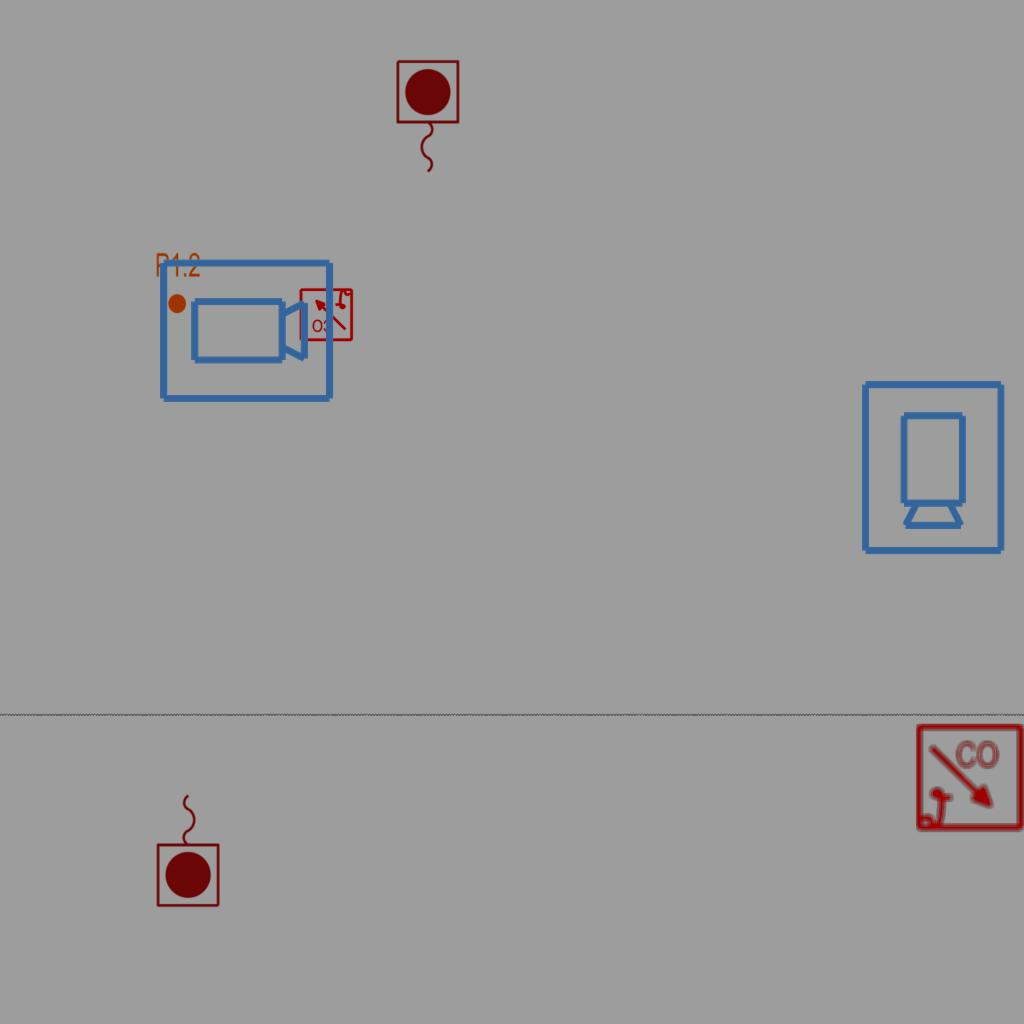Downlight_LED_Einbauleuchten_Flur: (155, 251, 201, 315)
KFO_Kamera_mit_Festobjektiv: (855, 376, 1009, 558), (155, 255, 337, 409)
ROA_Rauchmelder_optisch_mit_Signalgeber_(Sockelsirene): (914, 722, 1024, 835), (298, 286, 354, 342)
Zugtaster: (153, 789, 225, 911), (391, 56, 463, 178)
